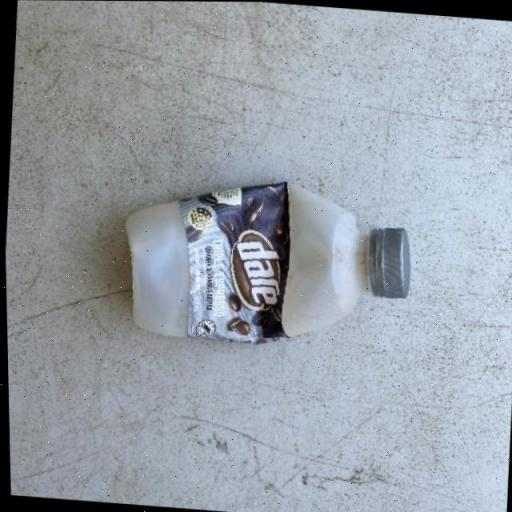plastic: (113, 166, 416, 356)
